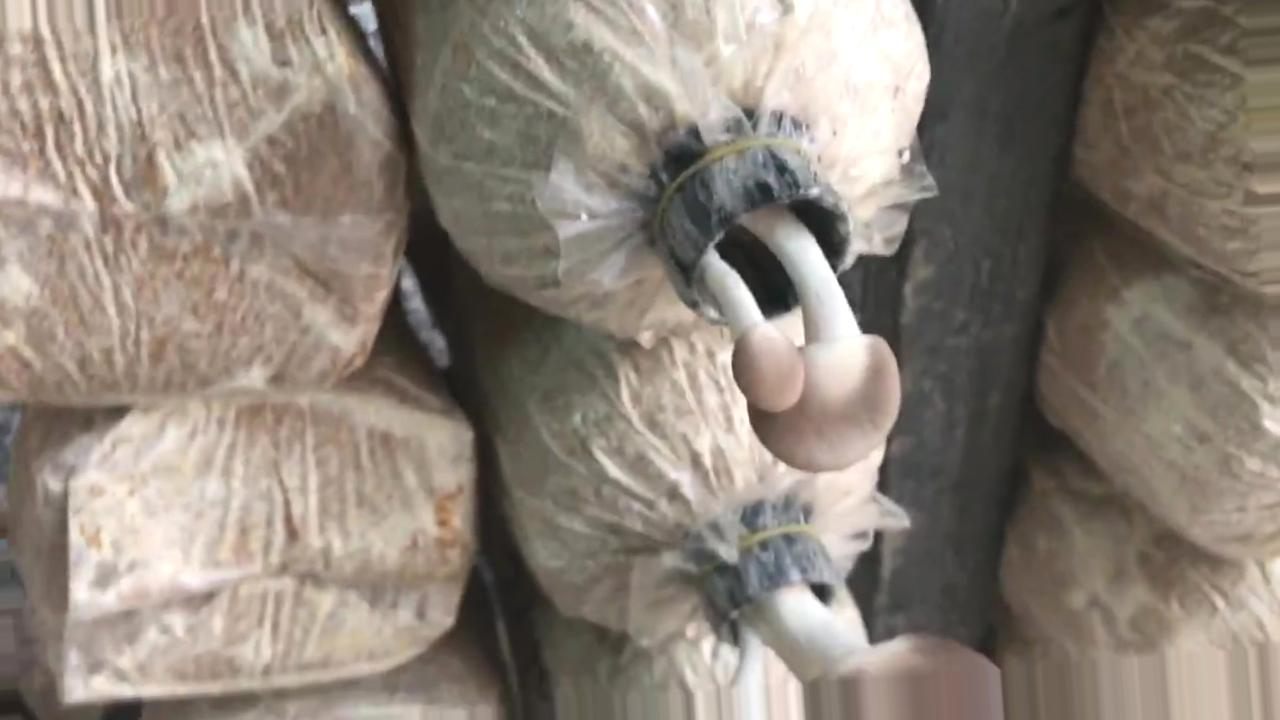nam: (656, 136, 900, 470), (699, 524, 999, 720)
